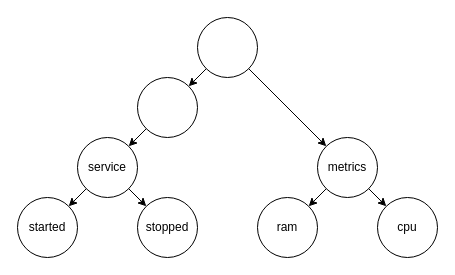
This 455x275 diagram has some shape labels left out. The box of each missing label's shape, as (x1, y1, x2, y2) in pixels:
device identifier: (196, 16, 258, 78)
events: (136, 76, 198, 138)
